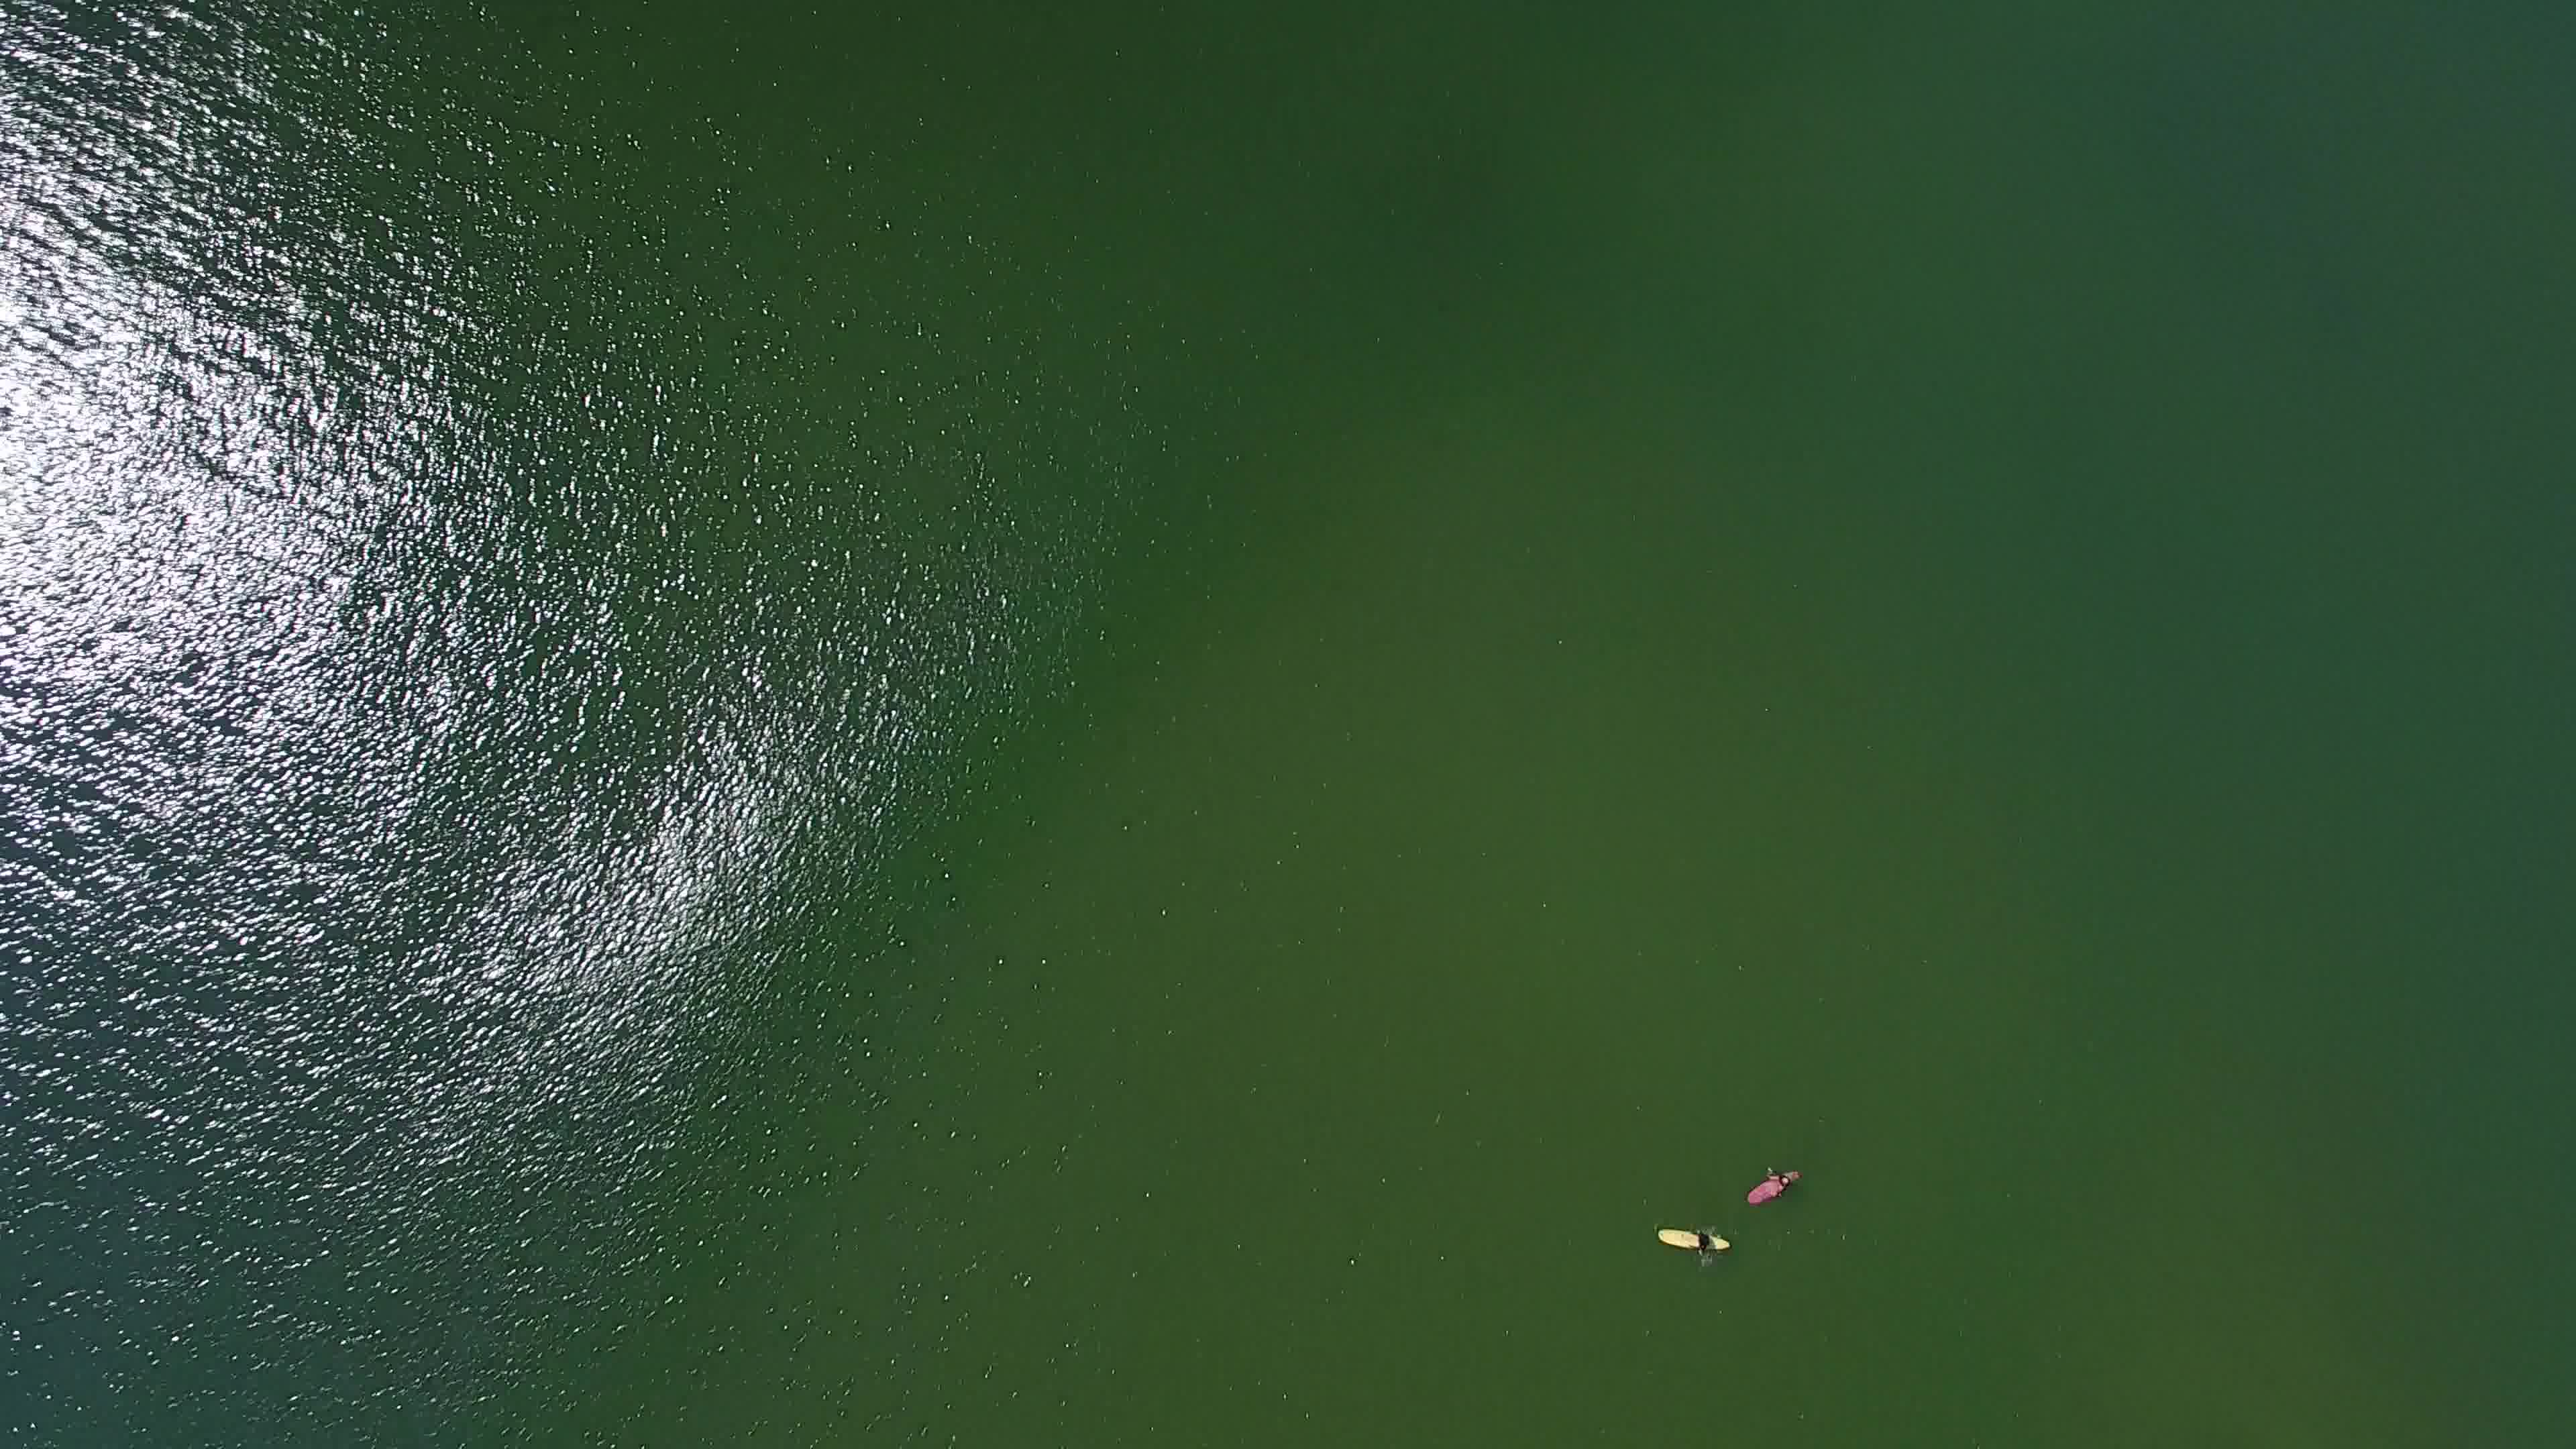surfer: (1652, 1212, 1736, 1265), (1739, 1164, 1815, 1210)
